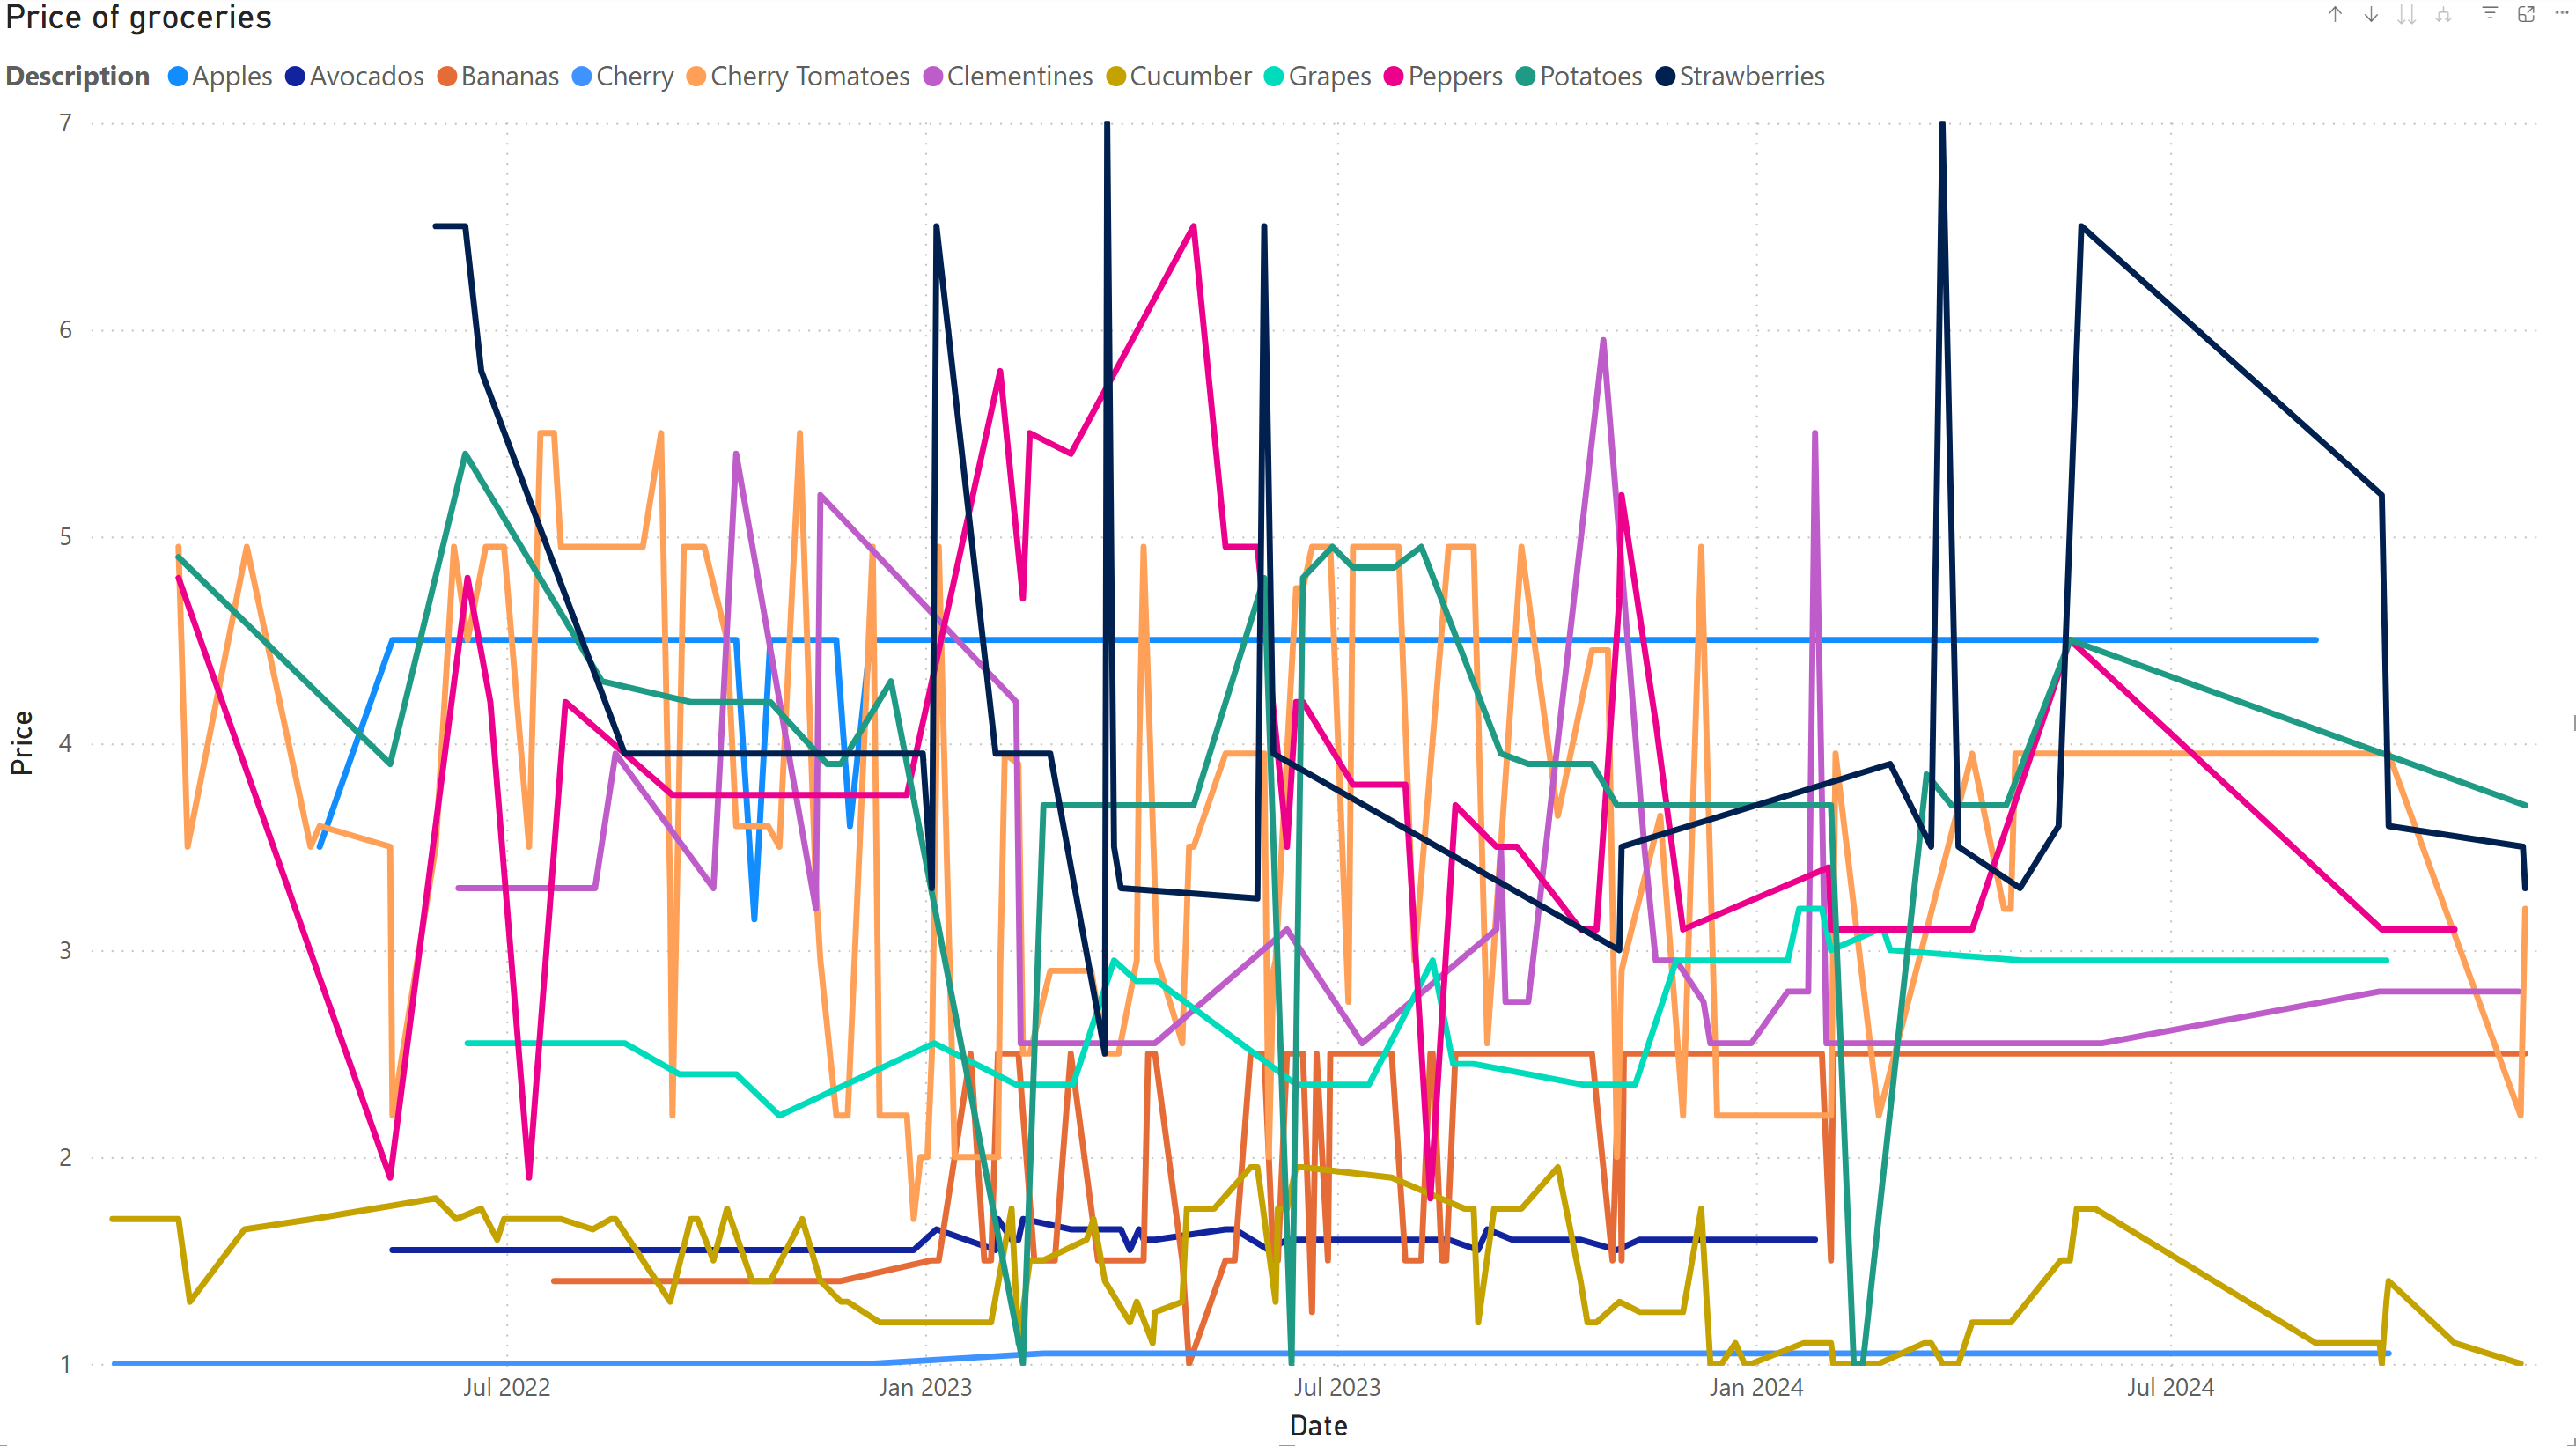

The page's visual inventory and layout, read from the dashboard file:
{"tool":"powerbi","page":{"name":"Second Plot","canvas":[1280,720],"ordinal":1},"visuals":[{"type":"lineChart","title":"Price of groceries","fields":{"Category":["Date.Date.Variation.Date Hierarchy.Year","Date.Date.Variation.Date Hierarchy.Quarter","Date.Date.Variation.Date Hierarchy.Month","Date.Date.Variation.Date Hierarchy.Day"],"Y":["Max(Groceries.Price)"],"Series":["Groceries.Description"]},"box":[0,0,1279.8,720],"z":0}]}

Visuals, with their boxes on the page's 1280x720 design canvas (x1, y1, x2, y2). These are canvas units, not pixel positions in the 2576x1446 screenshot, which may show the page scaled, cropped or inside an application window:
"Price of groceries" lineChart: <box>0,0,1280,720</box>
